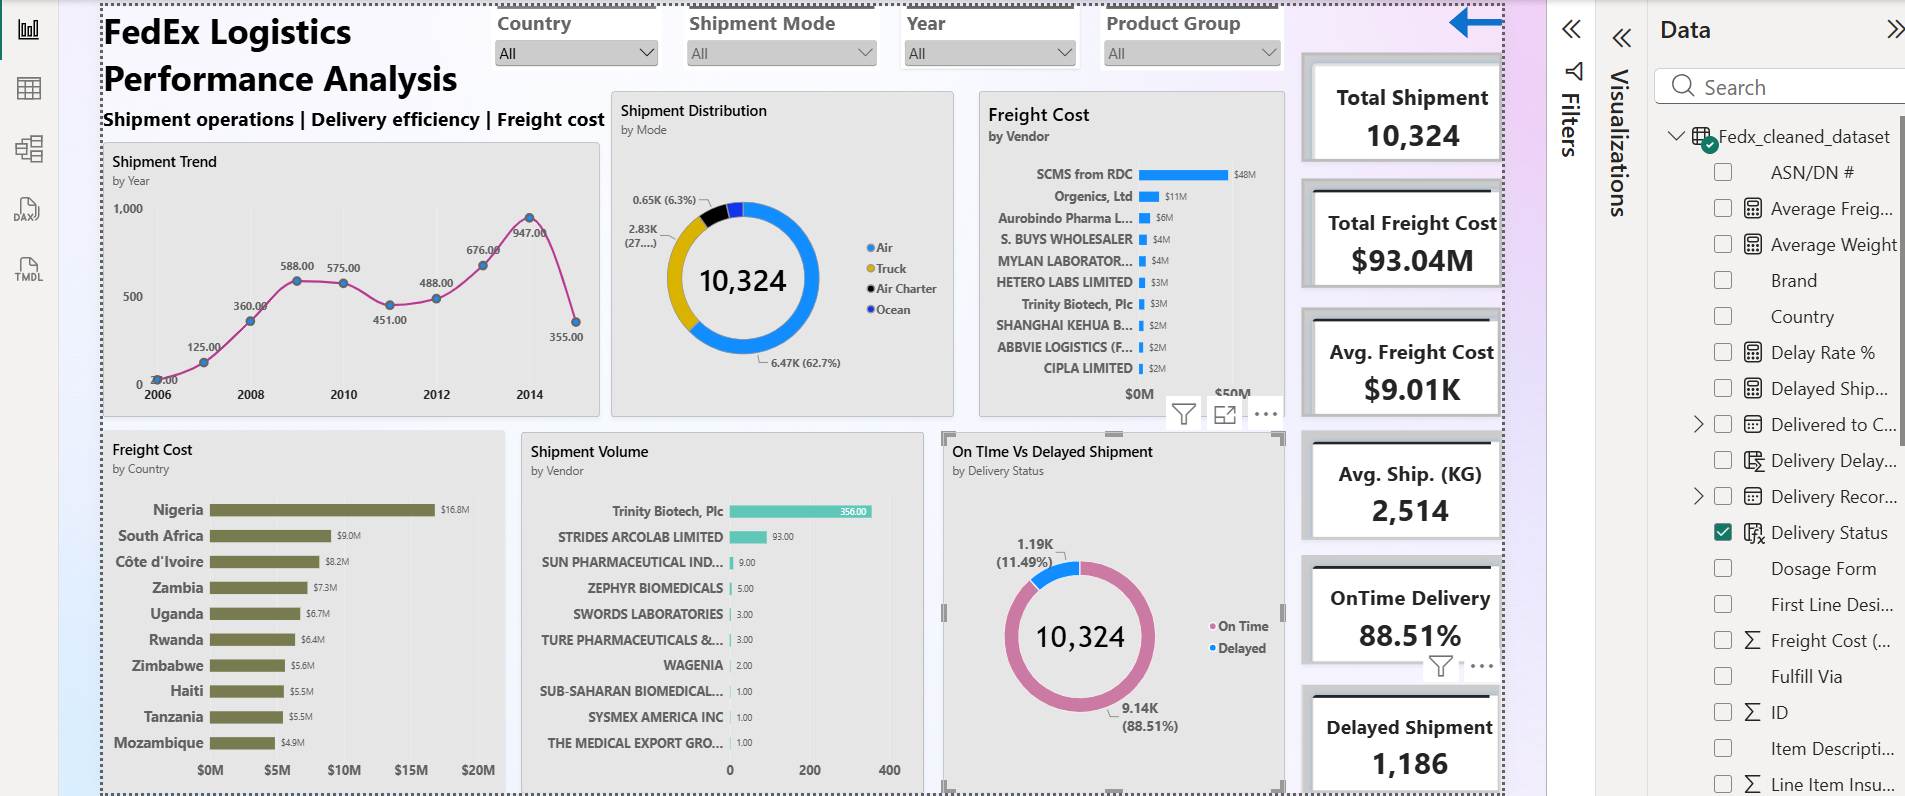

What the dashboard file says about the page in this screenshot:
{"tool":"powerbi","page":{"name":"Page 1","canvas":[1920,1080],"ordinal":0},"visuals":[{"type":"slicer","fields":{"Values":["Fedx_cleaned_dataset.Country"]},"box":[533.8,0,233.9,88.6],"z":0},{"type":"slicer","fields":{"Values":["Fedx_cleaned_dataset.Shipment Mode"]},"box":[797.2,0,270.3,88.6],"z":1000},{"type":"slicer","fields":{"Values":["Fedx_cleaned_dataset.Product Group"]},"box":[1369.6,0,252.1,88.6],"z":2000},{"type":"slicer","fields":{"Values":["Fedx_cleaned_dataset.PO Sent to Vendor Date.Variation.Date Hierarchy.Year"]},"box":[1094.8,0,245.3,86.3],"z":3000},{"type":"cardVisual","fields":{"Data":["Fedx_cleaned_dataset.Total Shipment Records"]},"box":[1644.7,63.8,275.8,150.3],"z":4000},{"type":"cardVisual","fields":{"Data":["Fedx_cleaned_dataset.Total Freight Cost"]},"box":[1644.7,236.7,275.8,150.3],"z":5000},{"type":"cardVisual","fields":{"Data":["Fedx_cleaned_dataset.Average Freight Cost"]},"box":[1644.7,413.8,273.8,150.3],"z":6000},{"type":"cardVisual","fields":{"Data":["Fedx_cleaned_dataset.Average Weight"]},"box":[1644.7,582.6,275.8,150.3],"z":7000},{"type":"cardVisual","fields":{"Data":["Fedx_cleaned_dataset.On Time Delivery %"]},"box":[1644.7,753.4,275.8,150.3],"z":8000},{"type":"cardVisual","fields":{"Data":["Fedx_cleaned_dataset.Delayed Shipment Records"]},"box":[1644.7,930.4,273.8,150.3],"z":9000},{"type":"textbox","box":[0,117.3,699.5,75],"z":10000},{"type":"actionButton","box":[1847.4,0,73.4,45],"z":11000},{"type":"lineChart","title":"Shipment Trend ","fields":{"Category":["Fedx_cleaned_dataset.PO Sent to Vendor Date.Variation.Date Hierarchy.Year","Fedx_cleaned_dataset.PO Sent to Vendor Date.Variation.Date Hierarchy.Month"],"Y":["Fedx_cleaned_dataset.Total Shipment Records"]},"box":[0,187.3,681.4,376.7],"z":12000},{"type":"textbox","box":[0,0,533.1,137.9],"z":13000},{"type":"donutChart","title":"Shipment Distribution","fields":{"Category":["Fedx_cleaned_dataset.Shipment Mode"],"Y":["Fedx_cleaned_dataset.Total Shipment Records"]},"box":[697.8,117.3,469.3,446.7],"z":14000},{"type":"donutChart","title":"On TIme Vs Delayed Shipment","fields":{"Category":["Fedx_cleaned_dataset.Delivery Status"],"Y":["Fedx_cleaned_dataset.Total Shipment Records"]},"box":[1152.8,584.6,469.3,496.1],"z":15000},{"type":"clusteredBarChart","title":"Freight Cost","fields":{"Category":["Fedx_cleaned_dataset.Country"],"Y":["Fedx_cleaned_dataset.Total Freight Cost"]},"box":[0,582.6,551.7,498.2],"z":16000},{"type":"clusteredBarChart","title":"Shipment Volume","fields":{"Category":["Fedx_cleaned_dataset.Vendor"],"Y":["Fedx_cleaned_dataset.Total Shipment Records"]},"box":[574.3,584.6,551.7,496.1],"z":17000},{"type":"clusteredBarChart","title":"Freight Cost","fields":{"Category":["Fedx_cleaned_dataset.Vendor"],"Y":["Fedx_cleaned_dataset.Total Freight Cost"]},"box":[1202.2,117.3,419.9,446.7],"z":18000}]}

Visuals, with their boxes on the page's 1920x1080 design canvas (x1, y1, x2, y2). These are canvas units, not pixel positions in the 1905x796 screenshot, which may show the page scaled, cropped or inside an application window:
slicer - Fedx_cleaned_dataset.Country: 534,0,768,89
slicer - Fedx_cleaned_dataset.Shipment Mode: 797,0,1068,89
slicer - Fedx_cleaned_dataset.Product Group: 1370,0,1622,89
slicer - Fedx_cleaned_dataset.PO Sent to Vendor Date.Variation.Date Hierarchy.Year: 1095,0,1340,86
cardVisual - Fedx_cleaned_dataset.Total Shipment Records: 1645,64,1920,214
cardVisual - Fedx_cleaned_dataset.Total Freight Cost: 1645,237,1920,387
cardVisual - Fedx_cleaned_dataset.Average Freight Cost: 1645,414,1918,564
cardVisual - Fedx_cleaned_dataset.Average Weight: 1645,583,1920,733
cardVisual - Fedx_cleaned_dataset.On Time Delivery %: 1645,753,1920,904
cardVisual - Fedx_cleaned_dataset.Delayed Shipment Records: 1645,930,1918,1081
textbox: 0,117,700,192
actionButton: 1847,0,1921,45
"Shipment Trend " lineChart: 0,187,681,564
textbox: 0,0,533,138
"Shipment Distribution" donutChart: 698,117,1167,564
"On TIme Vs Delayed Shipment" donutChart: 1153,585,1622,1081
"Freight Cost" clusteredBarChart: 0,583,552,1081
"Shipment Volume" clusteredBarChart: 574,585,1126,1081
"Freight Cost" clusteredBarChart: 1202,117,1622,564
